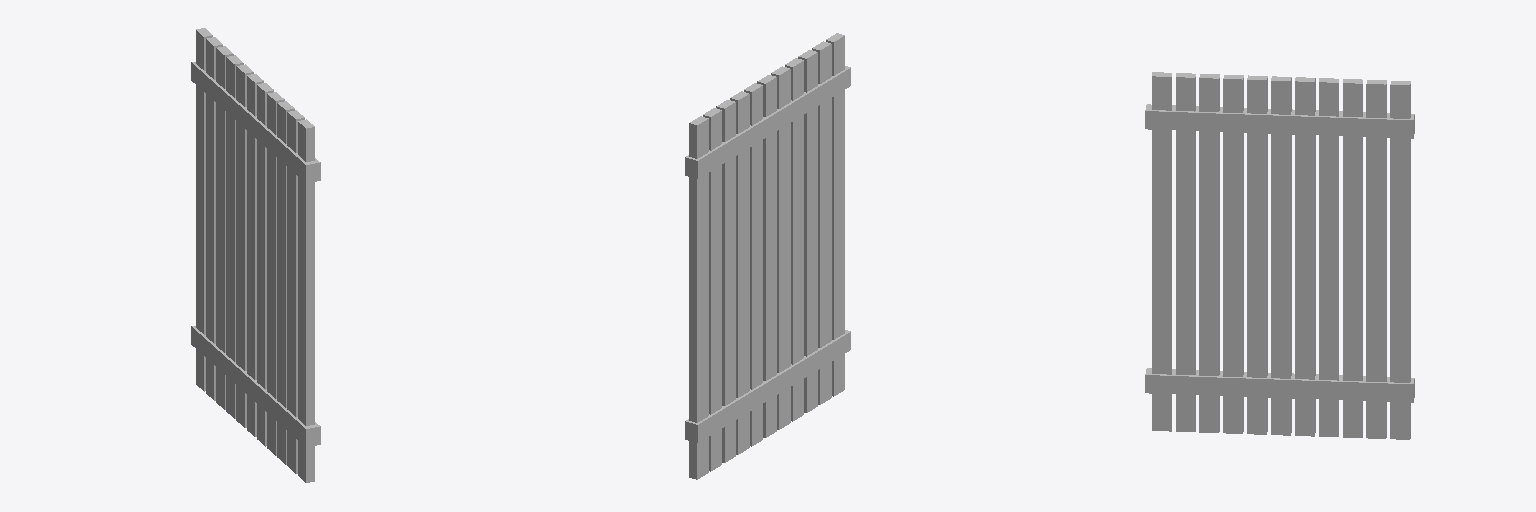
The model's file is gate_03.obj.
3 renders of one model, left to right at view 1: azimuth 30°, elevation 25°; view 2: azimuth 150°, elevation 25°; view 3: azimuth 270°, elevation 25°, orthographic.
Visible parts, largest first — view 1: Cube.006; view 2: Cube.006; view 3: Cube.006.
Boxes of the visible parts, <box> form: Cube.006: <box>191,28,320,482</box>; Cube.006: <box>685,33,850,479</box>; Cube.006: <box>1145,72,1414,439</box>.
Size of the model in its own units: 0.3386 by 3.48 by 2.4.